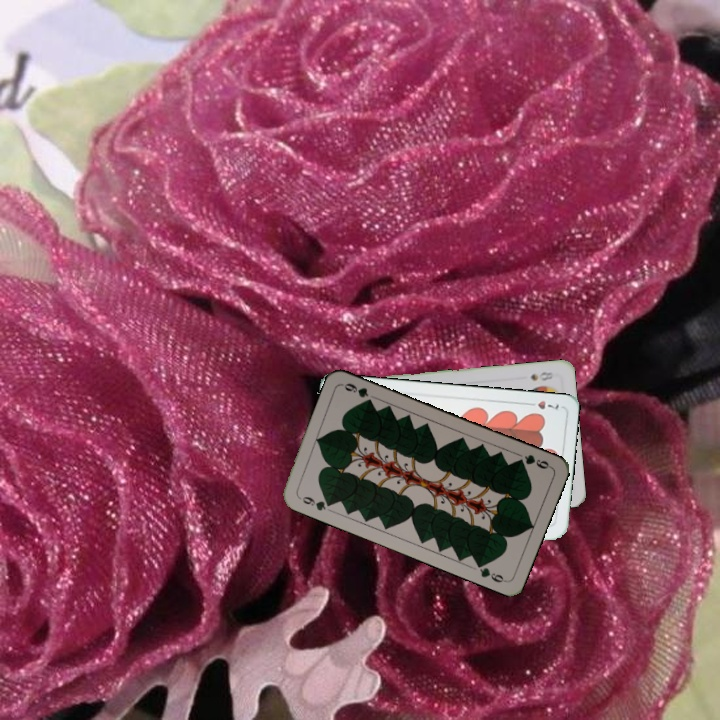G9: (512, 450, 554, 471), (294, 492, 336, 513)
H7: (522, 397, 562, 412)
S8: (527, 368, 558, 383)
